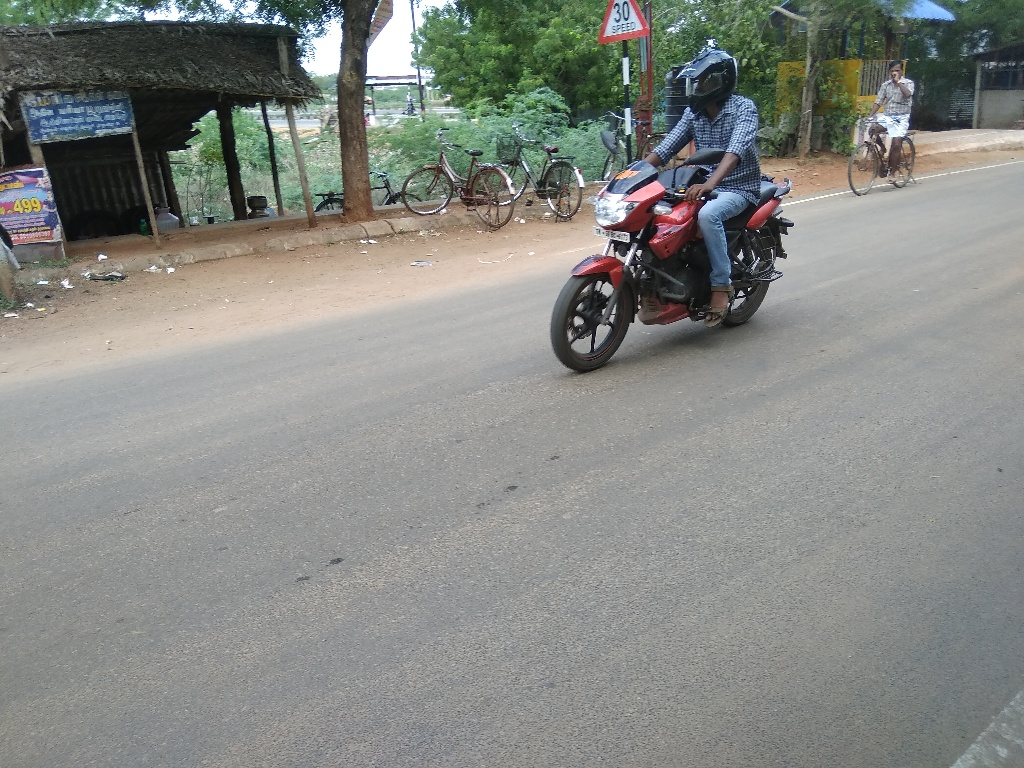biker: (524, 26, 822, 385)
helmet: (662, 37, 755, 126)
